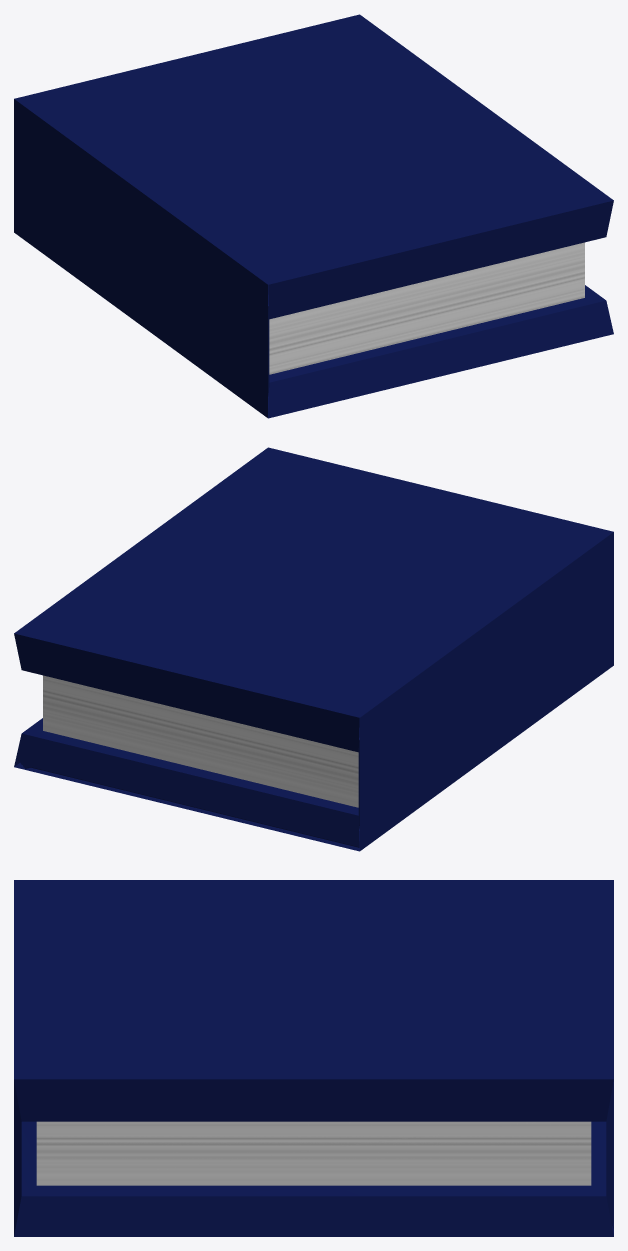
The model's file is Biblioteca_LibroGenerico_004.fbx.
3 views of the same model, one above another, from view 1: azimuth 30°, elevation 25°; view 2: azimuth 150°, elevation 25°; view 3: azimuth 270°, elevation 25° (orthographic). The views are drawn at different scales.
Visible parts, largest first — view 1: Biblioteca_LibroGenerico.004; view 2: Biblioteca_LibroGenerico.004; view 3: Biblioteca_LibroGenerico.004.
Boxes of the visible parts, x1,y1,x2,y2 form: Biblioteca_LibroGenerico.004: [14, 14, 613, 418]; Biblioteca_LibroGenerico.004: [14, 447, 613, 851]; Biblioteca_LibroGenerico.004: [14, 880, 613, 1236].
Size of the model in its own units: 24.19 by 8.93 by 30.79.
